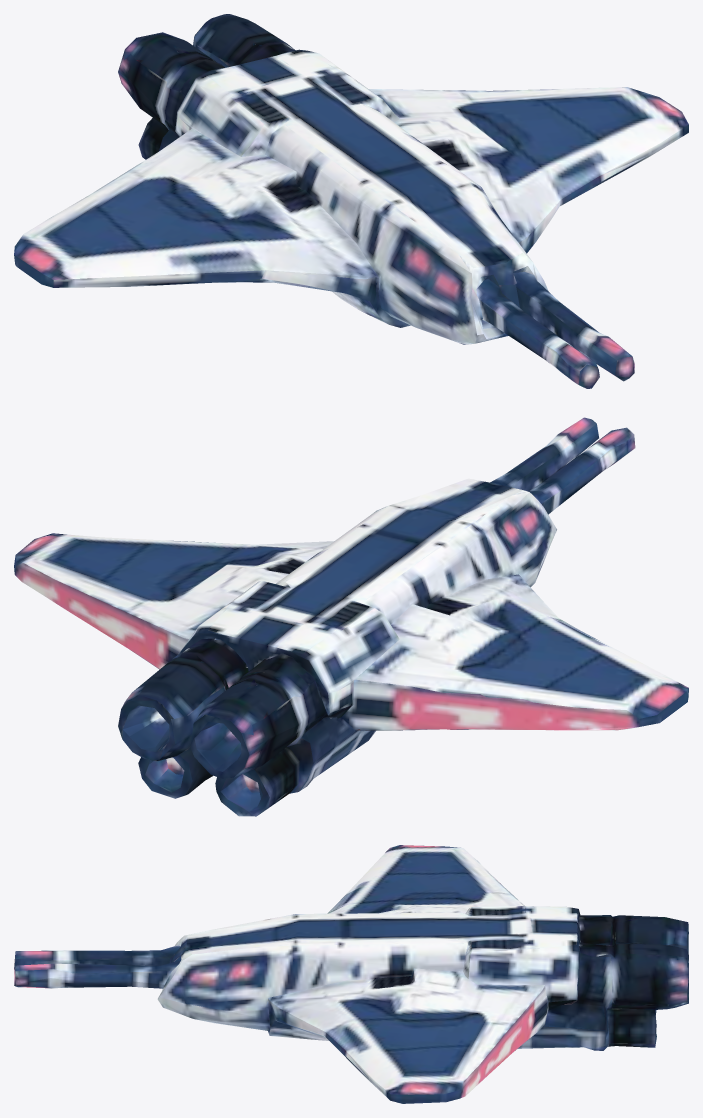
Rendered from enemy-shooter-s5.glb.
3 views of the same model, one above another, from view 1: azimuth 30°, elevation 25°; view 2: azimuth 150°, elevation 25°; view 3: azimuth 270°, elevation 25° (orthographic). The views are drawn at different scales.
Parts seen in each view (by area): view 1: 85775bae-5782-4804-8cdf-365772ca311a_texturing.obj; view 2: 85775bae-5782-4804-8cdf-365772ca311a_texturing.obj; view 3: 85775bae-5782-4804-8cdf-365772ca311a_texturing.obj.
Boxes of the visible parts, x1,y1,x2,y2 form: 85775bae-5782-4804-8cdf-365772ca311a_texturing.obj: (14, 14, 688, 388); 85775bae-5782-4804-8cdf-365772ca311a_texturing.obj: (14, 417, 688, 816); 85775bae-5782-4804-8cdf-365772ca311a_texturing.obj: (14, 845, 688, 1103).
Bounding box in the file's own units: 1.75 × 0.3463 × 1.99.
Materials: 1 (1 with a texture image).
